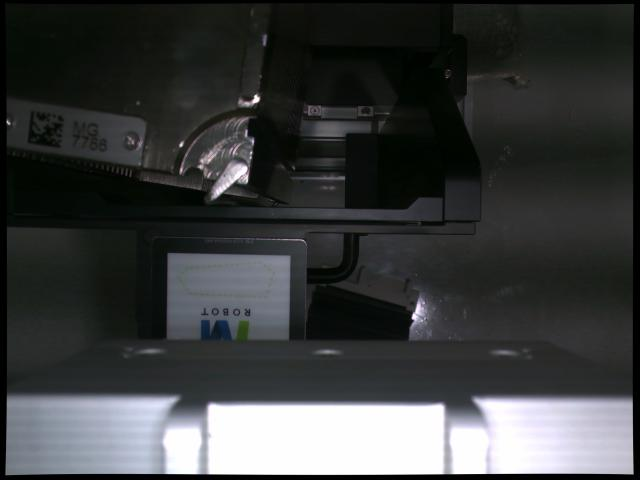jig_latch: (205, 159, 248, 204)
